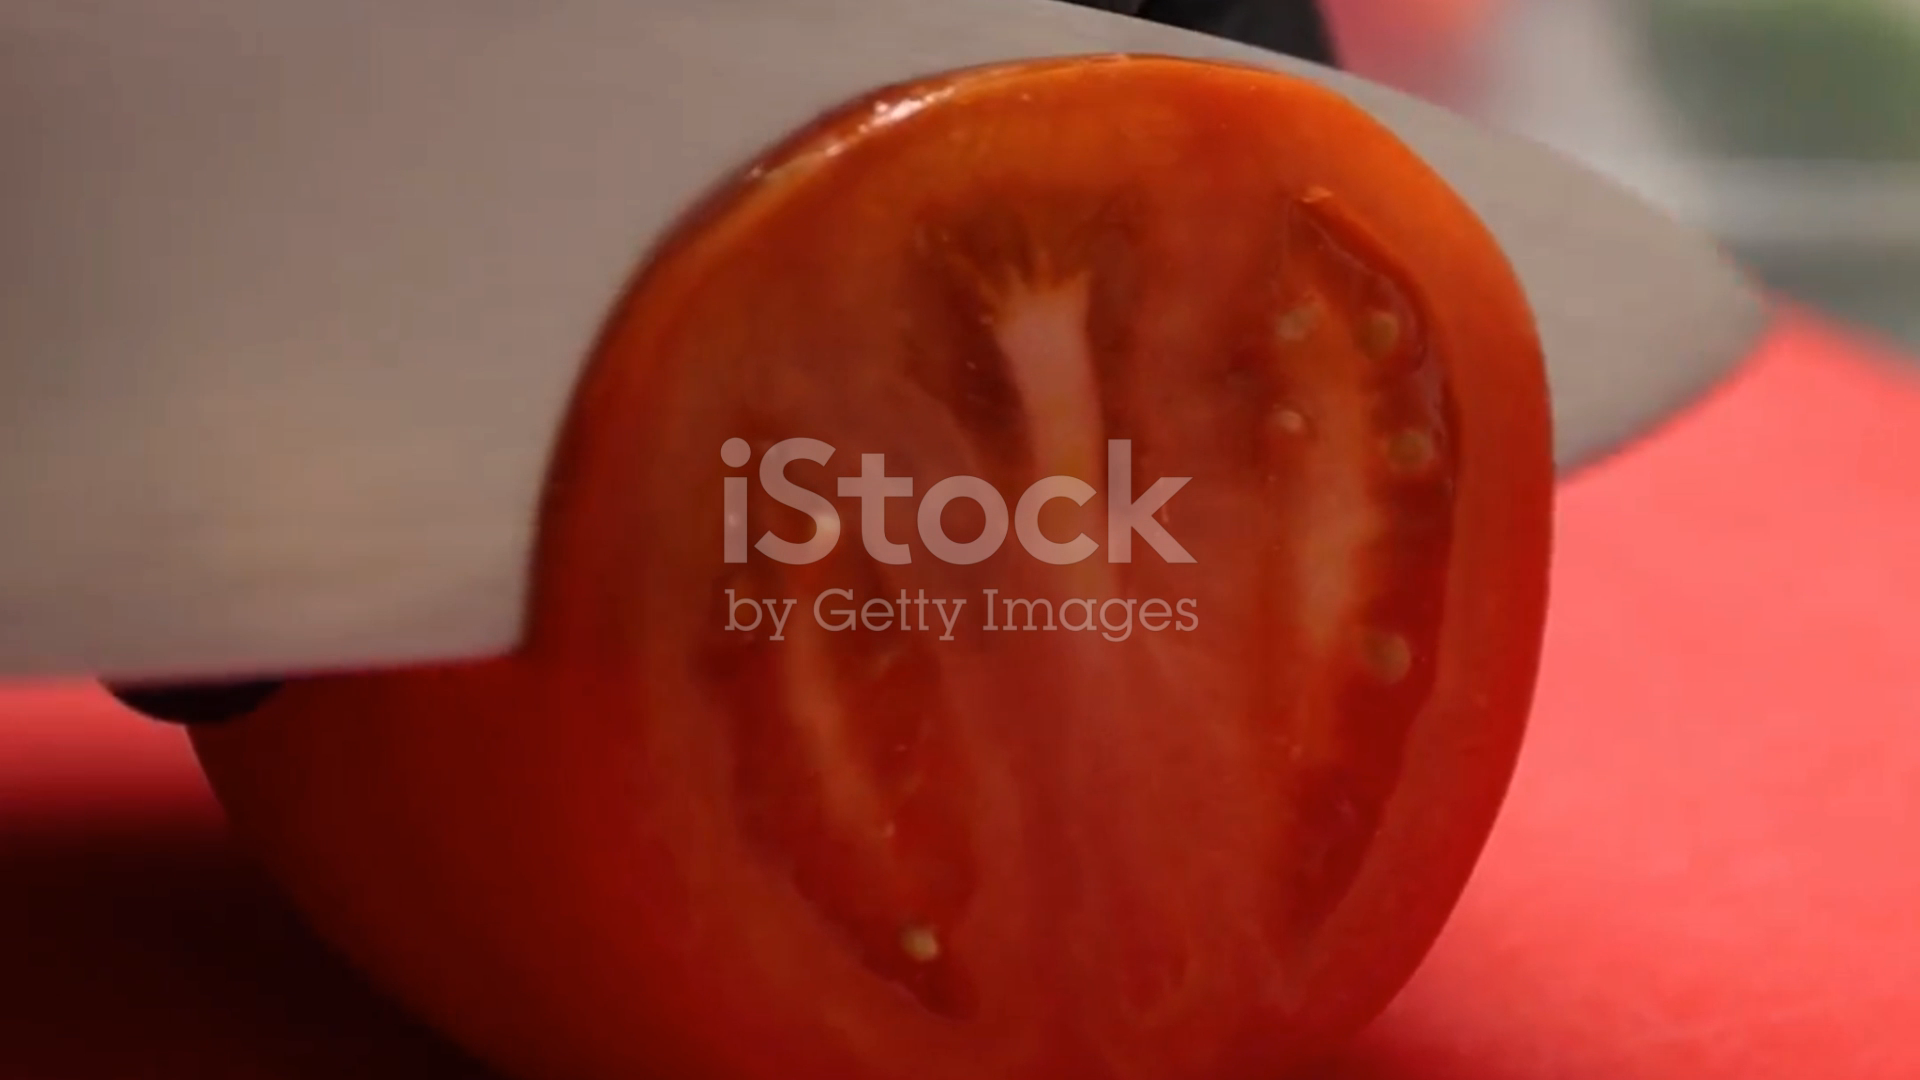cortante: (0, 0, 1779, 698)
